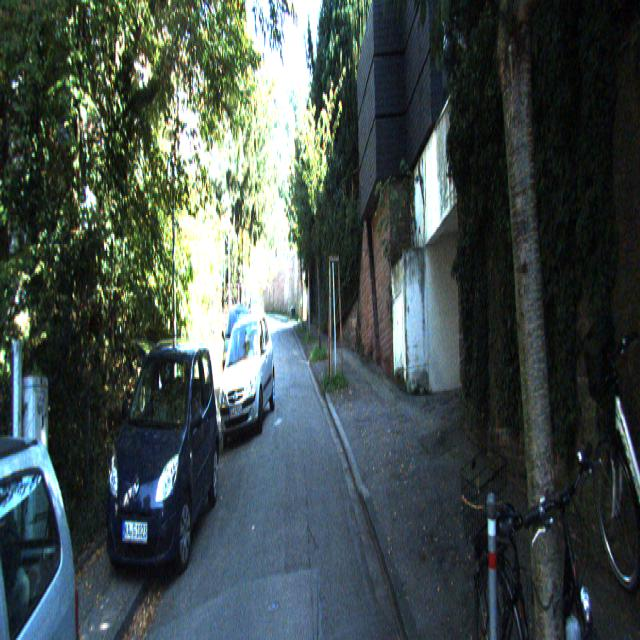Car: (102, 330, 222, 586), (0, 391, 101, 638), (216, 307, 275, 444)
